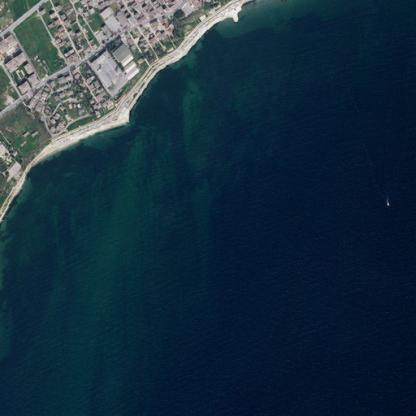ship: (386, 35, 389, 39)
